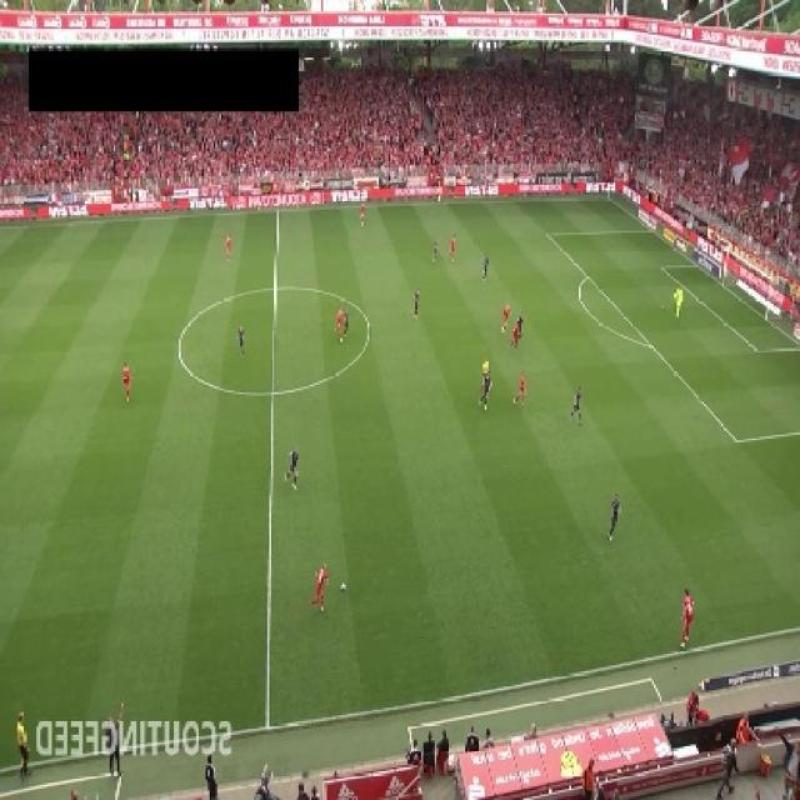1: (598, 189, 620, 206)
10: (579, 264, 599, 282)
11: (640, 332, 660, 354)
12: (727, 425, 751, 453)
13: (265, 198, 289, 223)
14: (264, 270, 288, 301)
15: (260, 373, 286, 408)
16: (252, 706, 287, 738)
2: (643, 224, 663, 241)
3: (686, 255, 706, 274)
7: (651, 255, 671, 276)
8: (748, 336, 770, 362)
9: (538, 223, 558, 242)
c: (166, 326, 194, 372), (354, 314, 384, 350)
